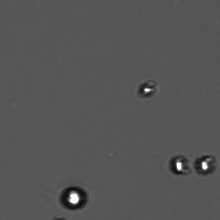Living Cell: (57, 183, 89, 212), (193, 151, 217, 175), (168, 152, 191, 176), (137, 78, 158, 99)
